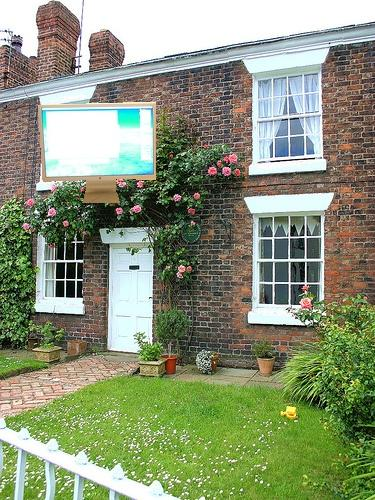tampered: (39, 103, 156, 203)
